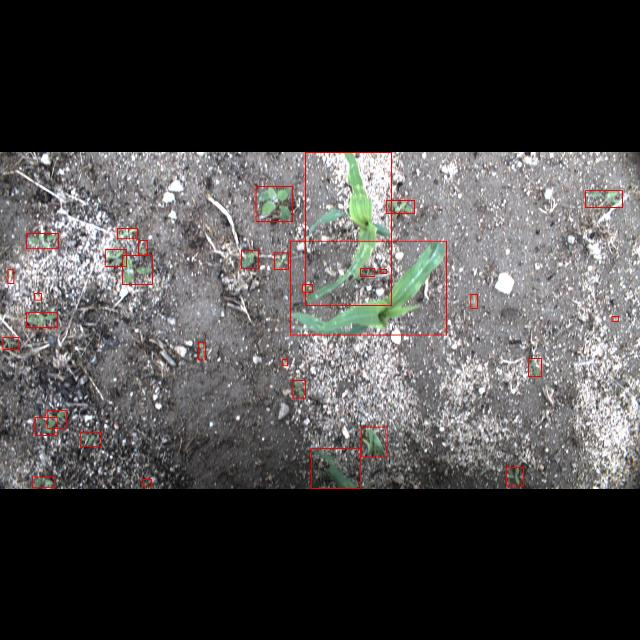crop: (290, 240, 446, 334), (306, 152, 392, 304), (310, 448, 360, 488), (361, 427, 387, 457)
weed: (255, 186, 292, 220), (123, 254, 153, 284), (586, 190, 622, 207), (26, 232, 58, 248), (27, 312, 58, 328), (35, 417, 57, 435), (106, 248, 126, 266), (47, 410, 67, 428), (506, 466, 524, 486), (386, 200, 414, 212), (241, 250, 259, 268), (80, 432, 102, 446), (292, 380, 306, 398), (528, 358, 542, 376), (32, 477, 54, 488), (274, 252, 288, 268), (3, 336, 19, 349), (117, 228, 137, 238), (198, 342, 206, 360), (138, 240, 148, 254), (470, 294, 478, 308), (360, 268, 374, 276), (8, 268, 14, 282), (302, 284, 312, 292), (142, 478, 152, 486), (34, 292, 41, 300), (282, 359, 288, 365), (612, 316, 618, 320), (380, 268, 386, 272)
